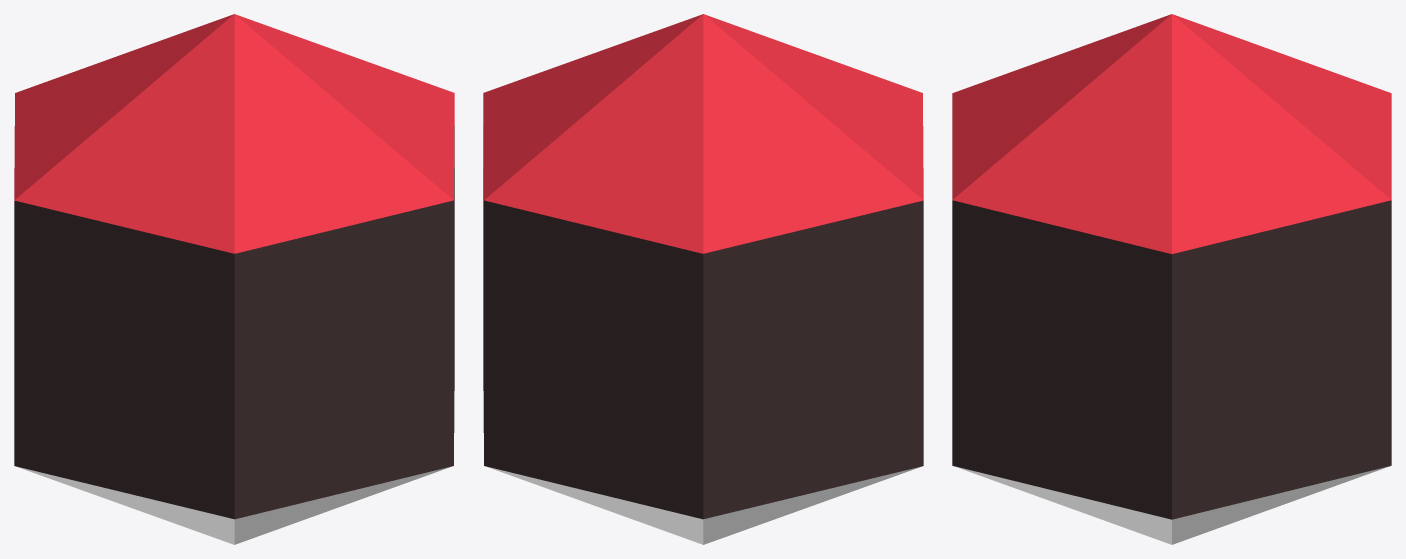
Rendered from ball.obj.
3 views of the same model, side by side, from view 1: azimuth 30°, elevation 25°; view 2: azimuth 150°, elevation 25°; view 3: azimuth 270°, elevation 25° (orthographic).
Bounding box in the file's own units: 0.382 × 0.44 × 0.33.
